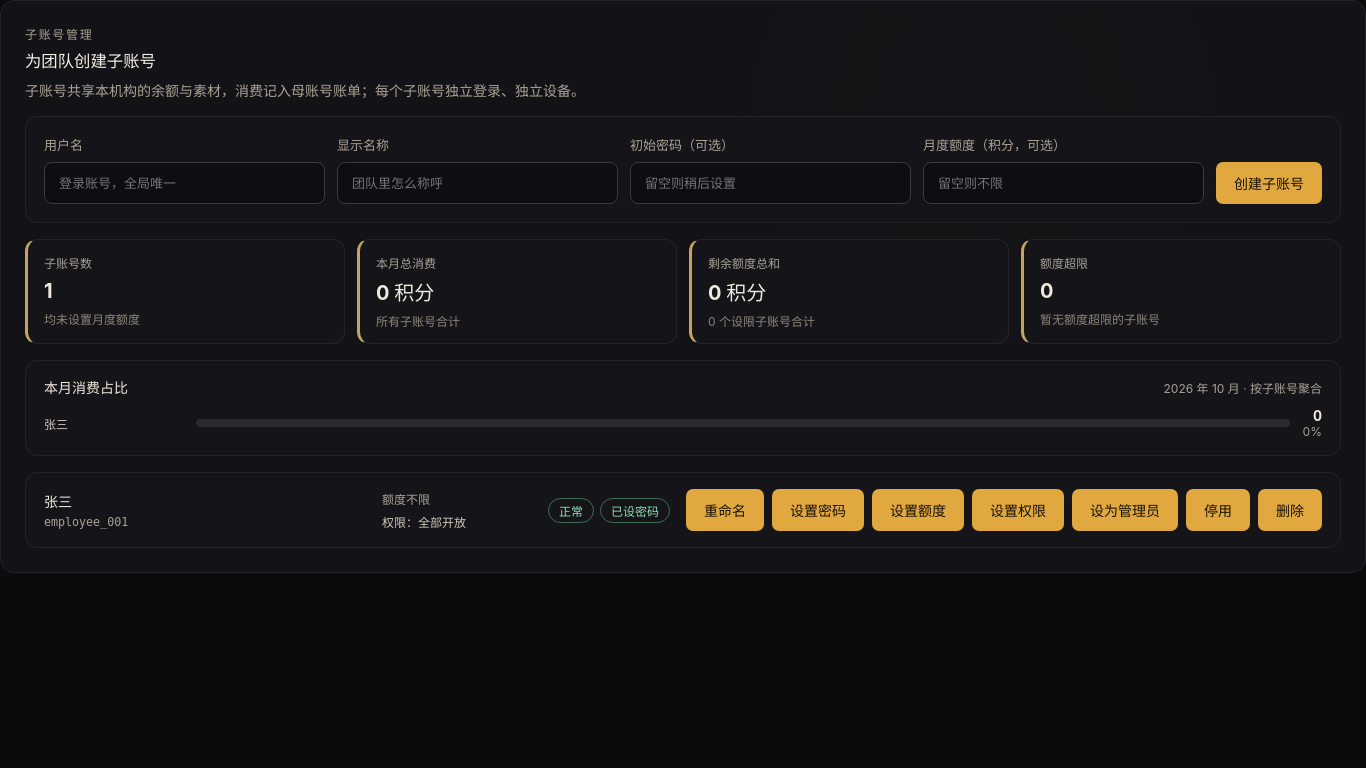
Test: SubAccountManagementPage › keeps the session when the server denies an operation with 403 (SUB_ADMIN scope)
This screenshot has width=1366, height=768.
Expected: the text "张三" next to "额度不限" is shown, [44,493,72,510]
Click the button "设为管理员" at (1125, 510), box [1072,489,1178,531]
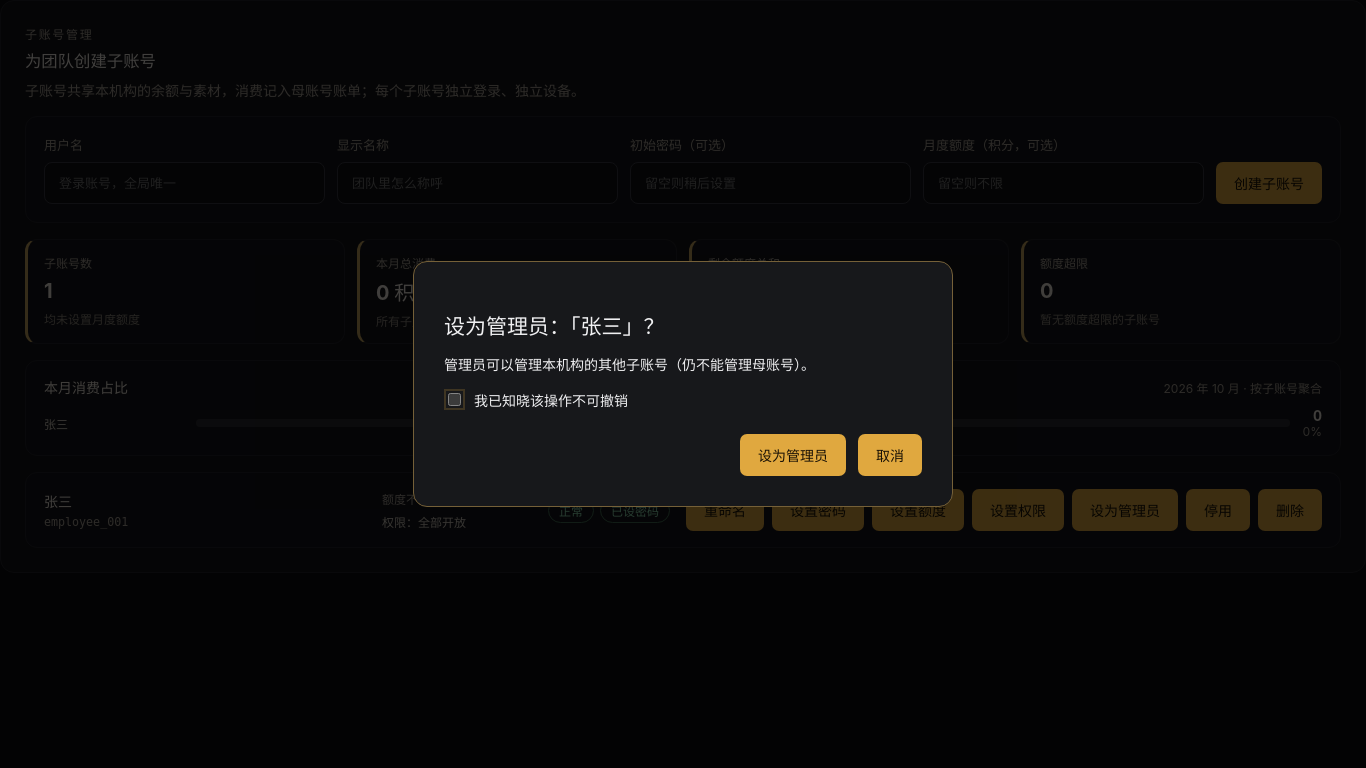
Click the checkbox at (454, 400), box [448,393,461,406]
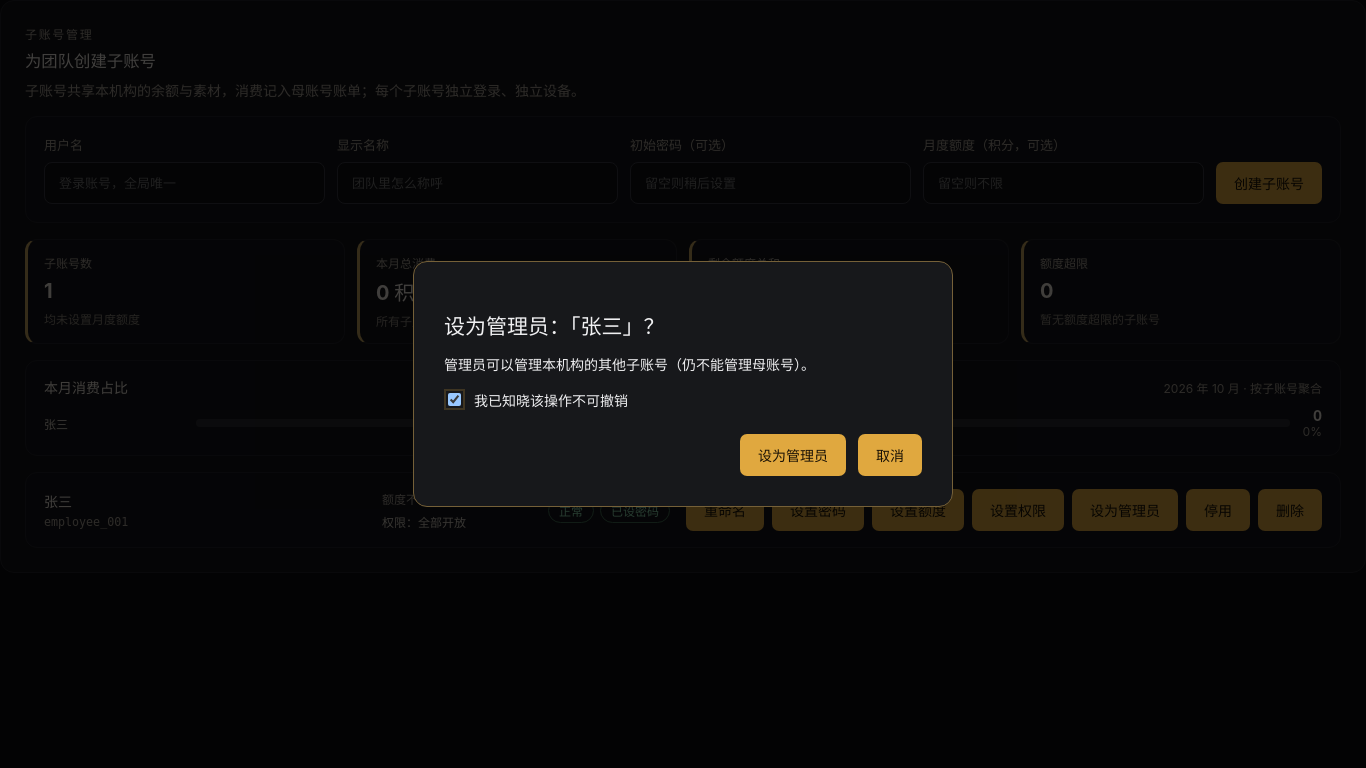
Click the button "设为管理员" at (793, 455), box [740,434,846,476]
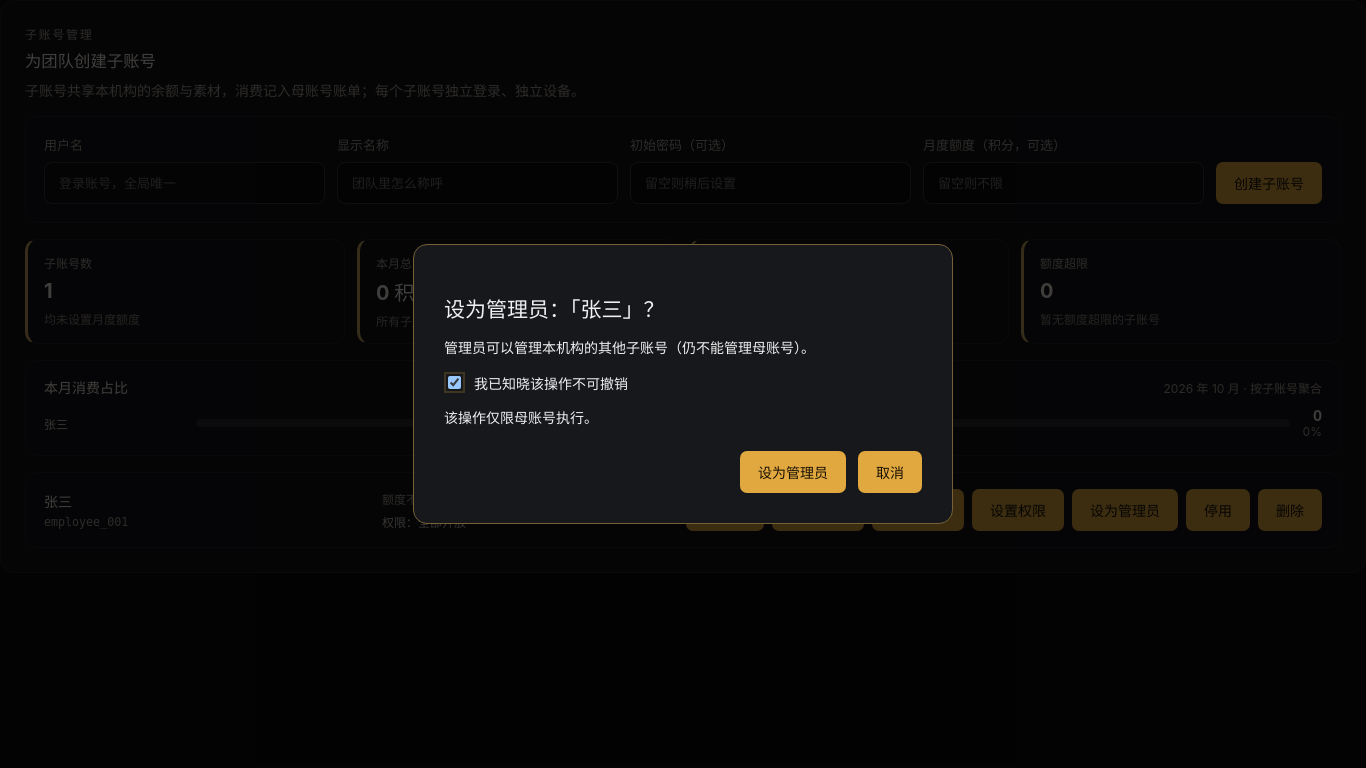
Expected: the text "该操作仅限母账号执行。" is shown, [444,409,598,426]
